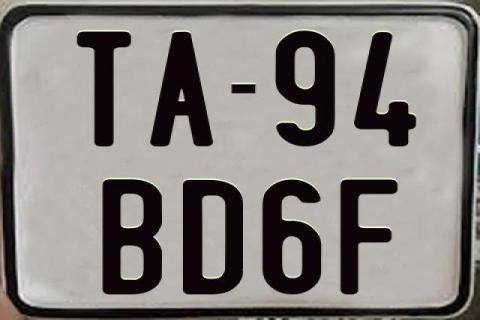0: (354, 31, 420, 149), (274, 31, 338, 151), (260, 180, 319, 296)
A: (147, 31, 213, 149)
B: (100, 177, 165, 295)
D: (182, 178, 242, 296)
F: (340, 179, 404, 299)
T: (74, 29, 129, 147)
